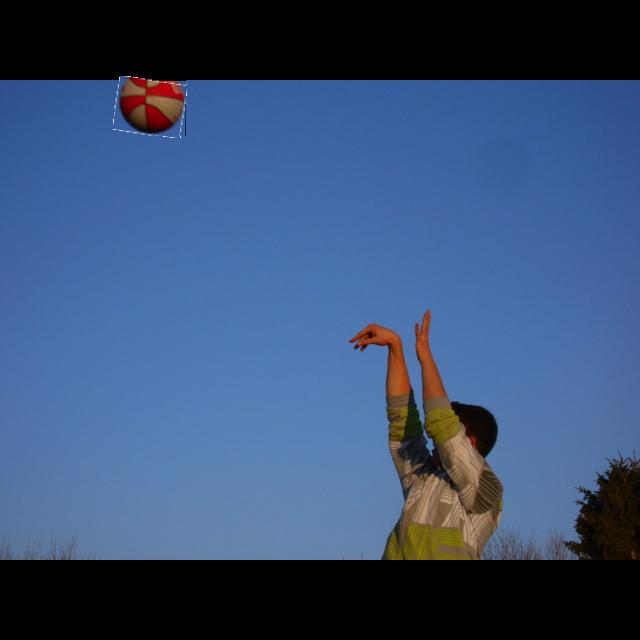Football: (114, 78, 186, 136)
